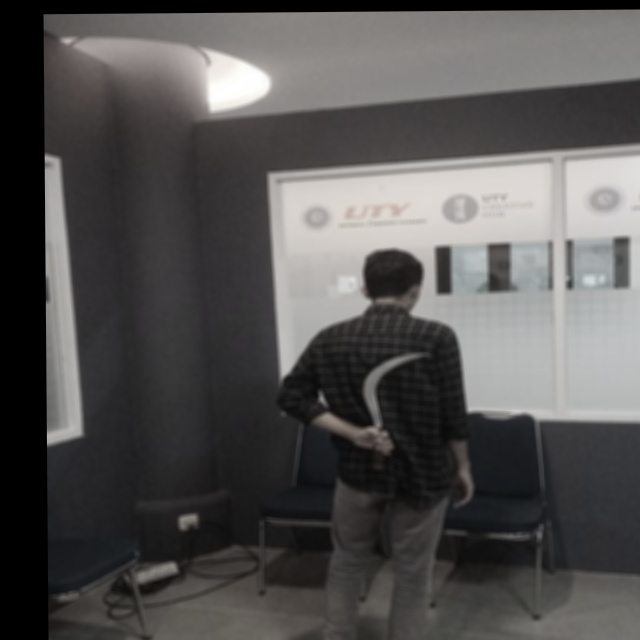Sharp-Object: (346, 351, 429, 460)
